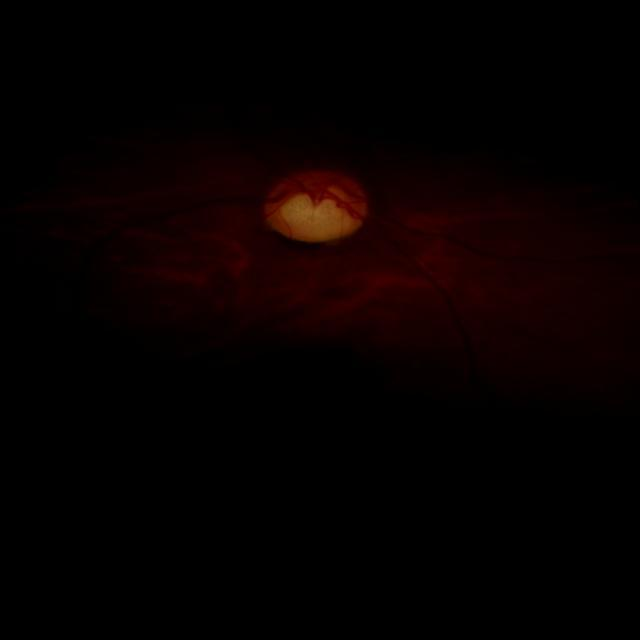cup: (277, 180, 355, 229)
disk: (262, 168, 370, 240)
